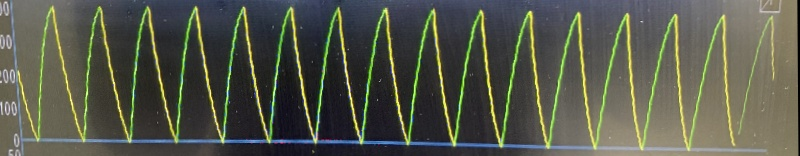normal_volume: (28, 2, 741, 151)
